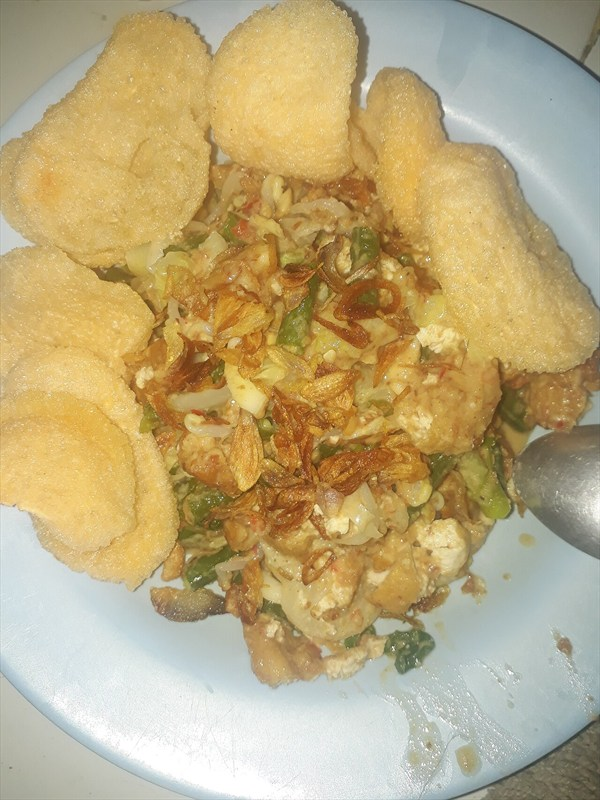Gado-Gado: (121, 159, 505, 615)
